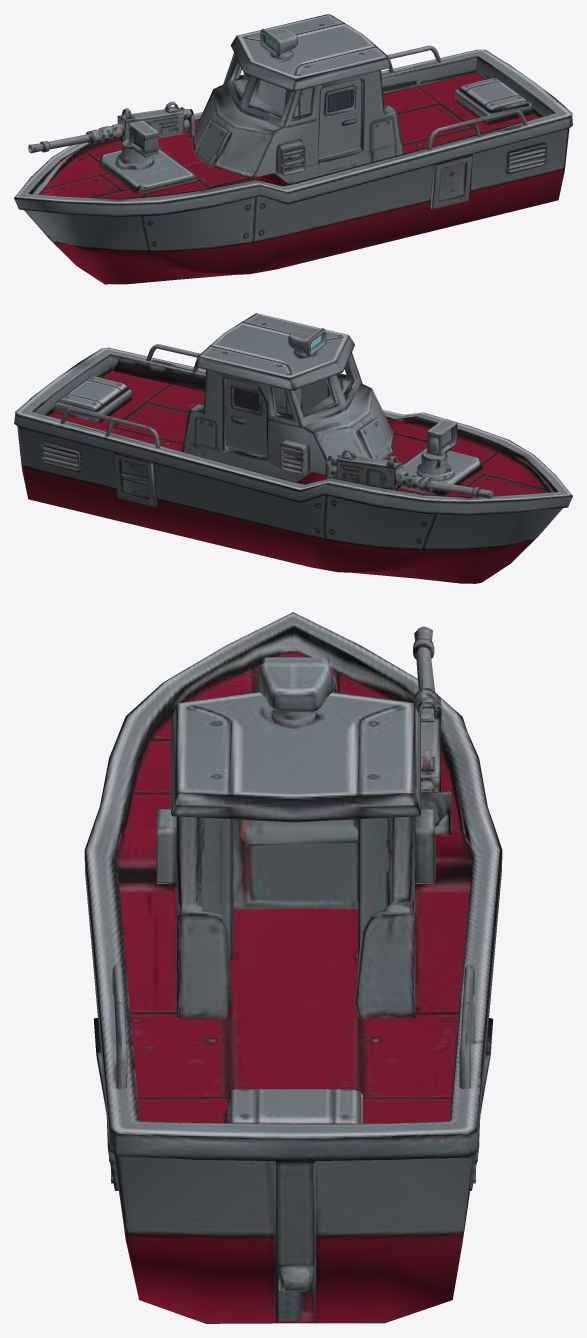
Rendered from patrol.glb.
3 renders of one model, top to bottom at view 1: azimuth 30°, elevation 25°; view 2: azimuth 150°, elevation 25°; view 3: azimuth 270°, elevation 25°, orthographic. The views are drawn at different scales.
Bounding box in the file's own units: 0.9561 × 0.3682 × 0.3325.
Materials: 1 (1 with a texture image).
